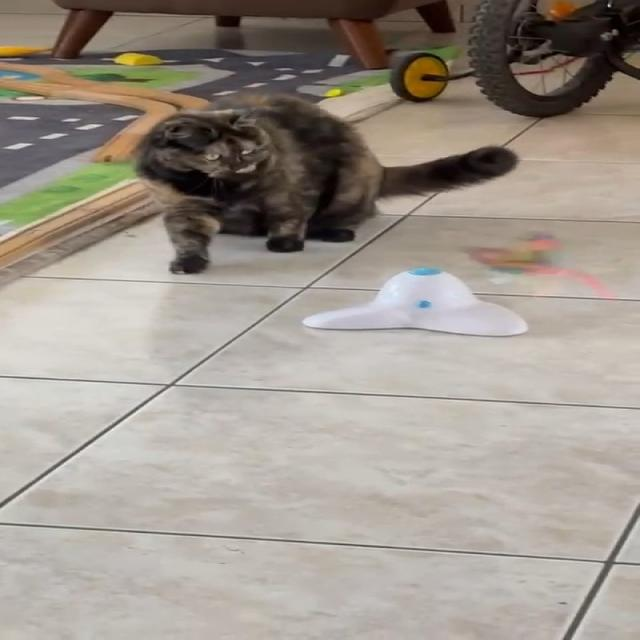authorized: (132, 90, 519, 274)
